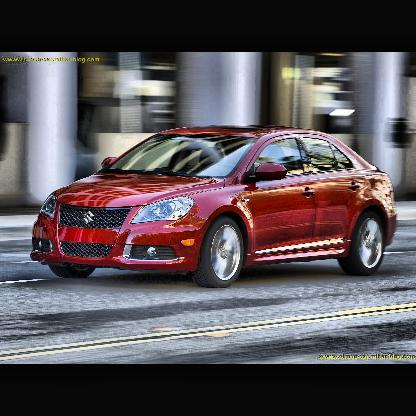Suzuki Kizashi Sedan 2012: (30, 124, 399, 283)
